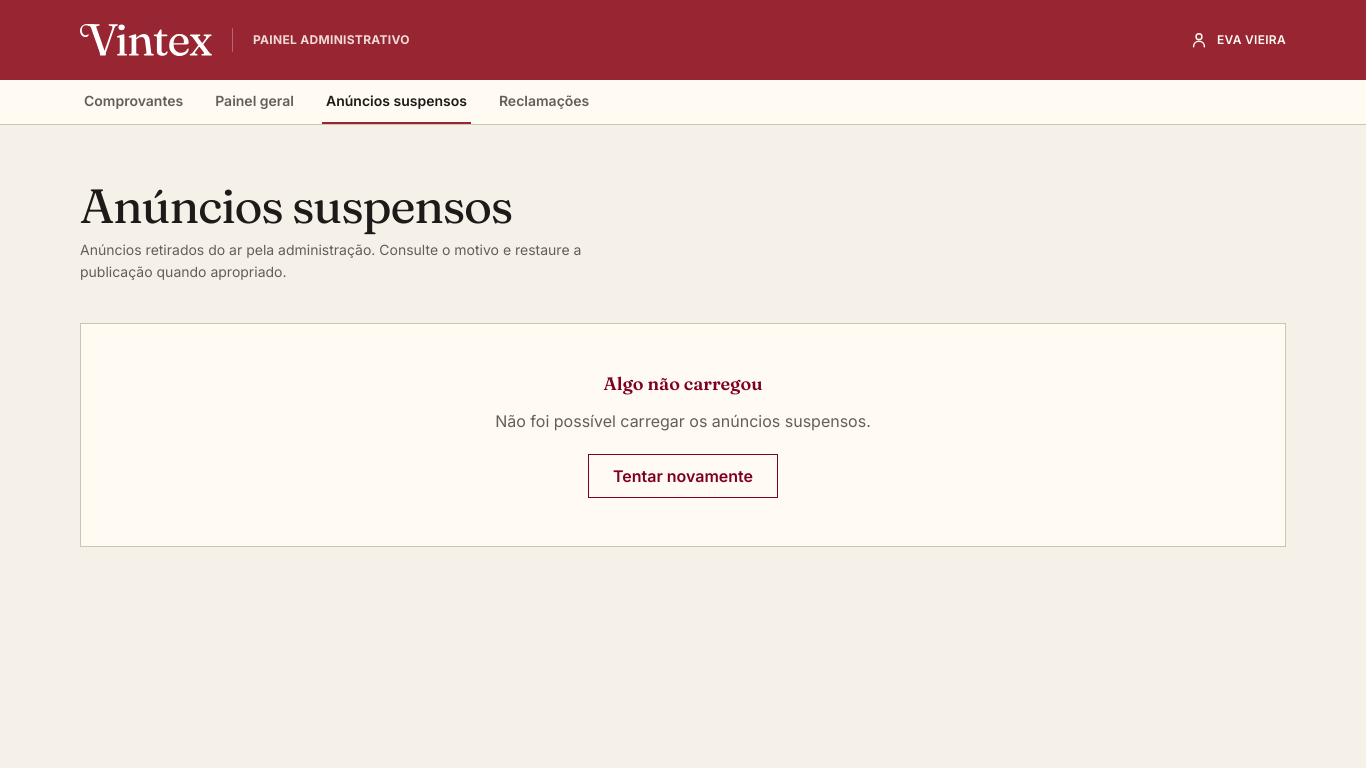
it: ModerationQueue — RED #414 › erro inicial é anunciado e Tentar novamente recupera a lista
The image size is (1366, 768).
Check: the message shows "Não foi possível carregar", box [495, 411, 871, 431]
Click the button "Tentar novamente".
click(683, 476)  # box [588, 454, 778, 498]
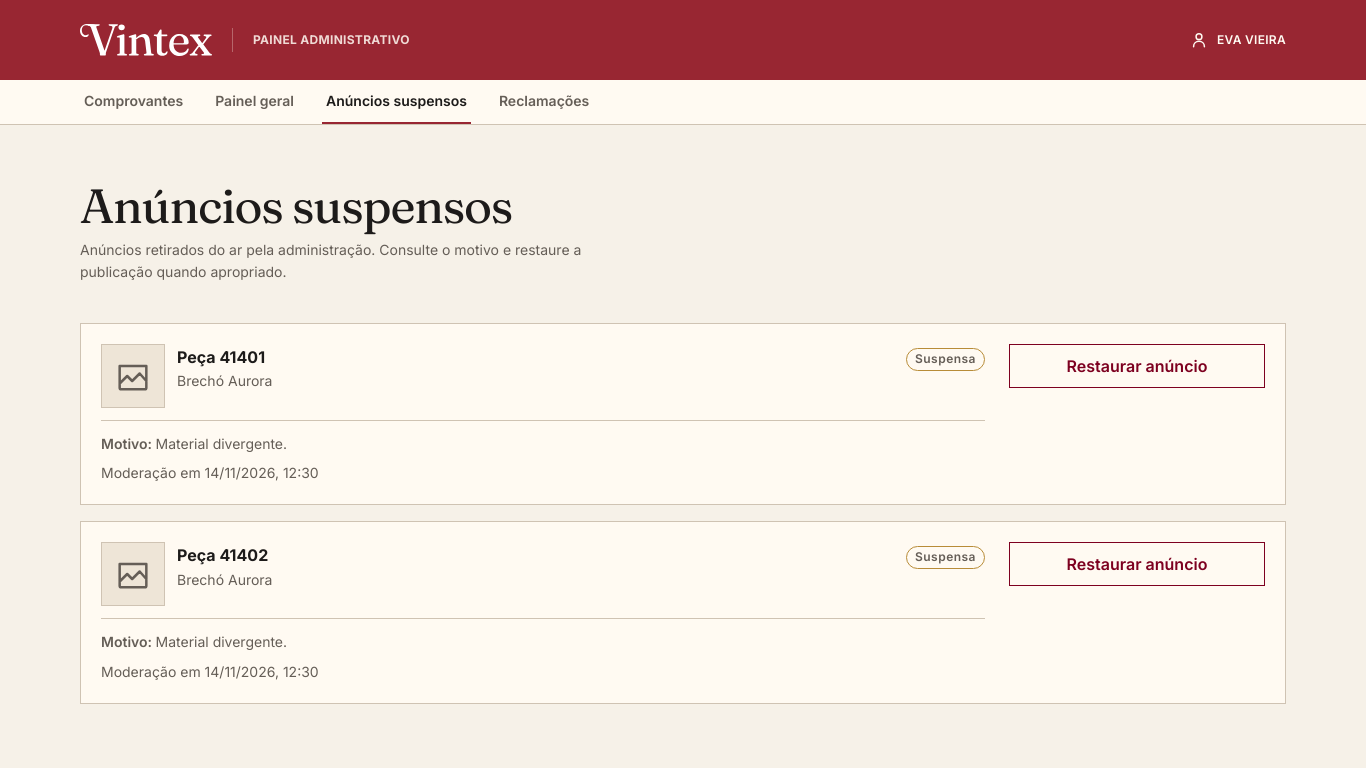
Check: the heading "Peça 41401" is shown, box [177, 347, 265, 367]
